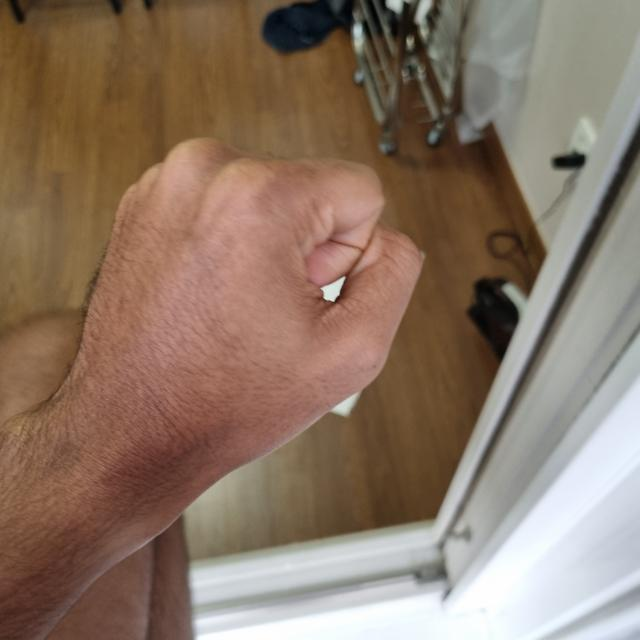Rock: (72, 140, 426, 479)
